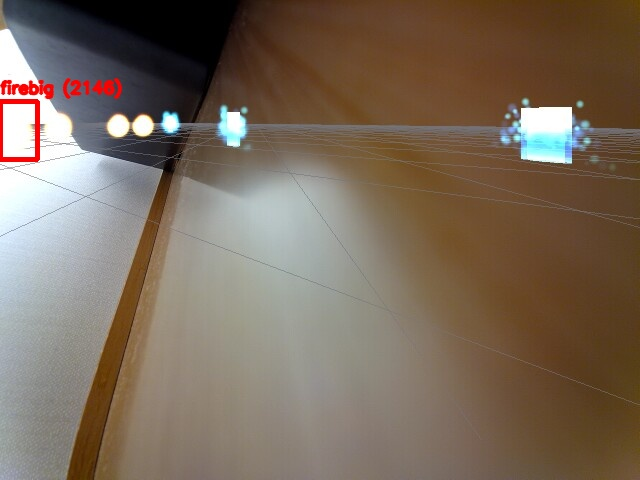firebig: (0, 101, 37, 159)
